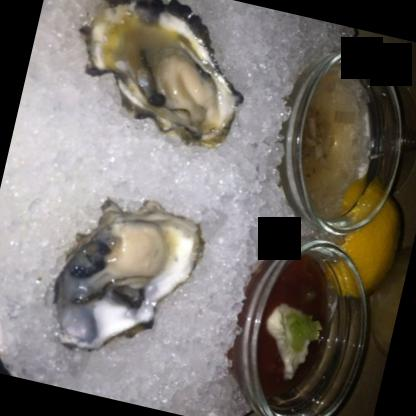oyster: (38, 193, 209, 370), (72, 0, 260, 151)
